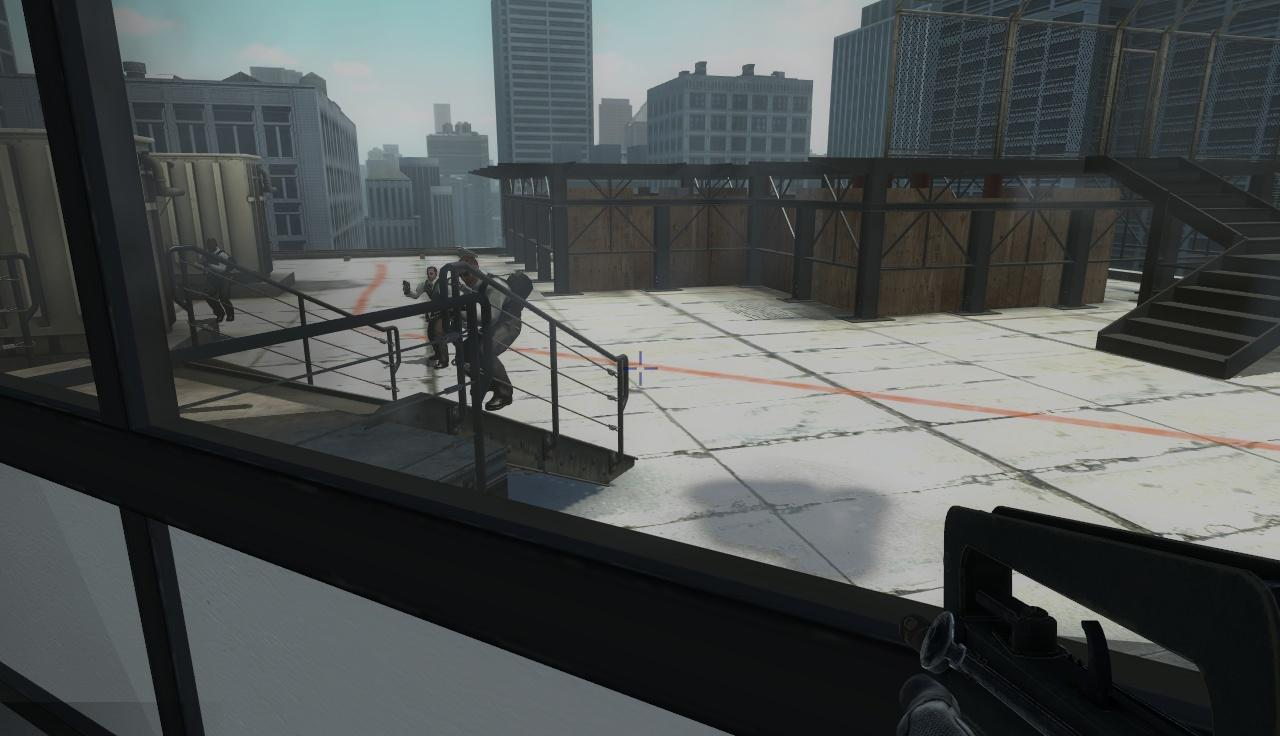rifle: (890, 485, 1280, 736)
tt: (457, 255, 520, 395), (200, 239, 235, 324), (421, 264, 448, 365)
tthead: (458, 257, 477, 283), (427, 266, 437, 282), (206, 238, 217, 251)
